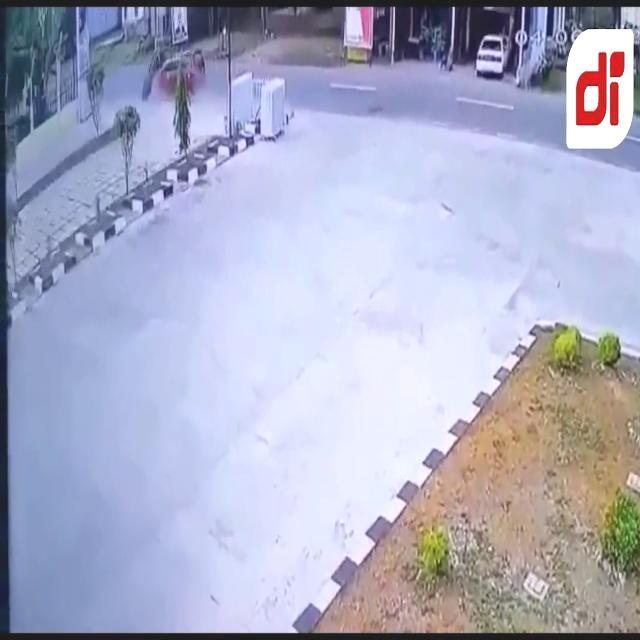accident: (143, 48, 205, 96)
